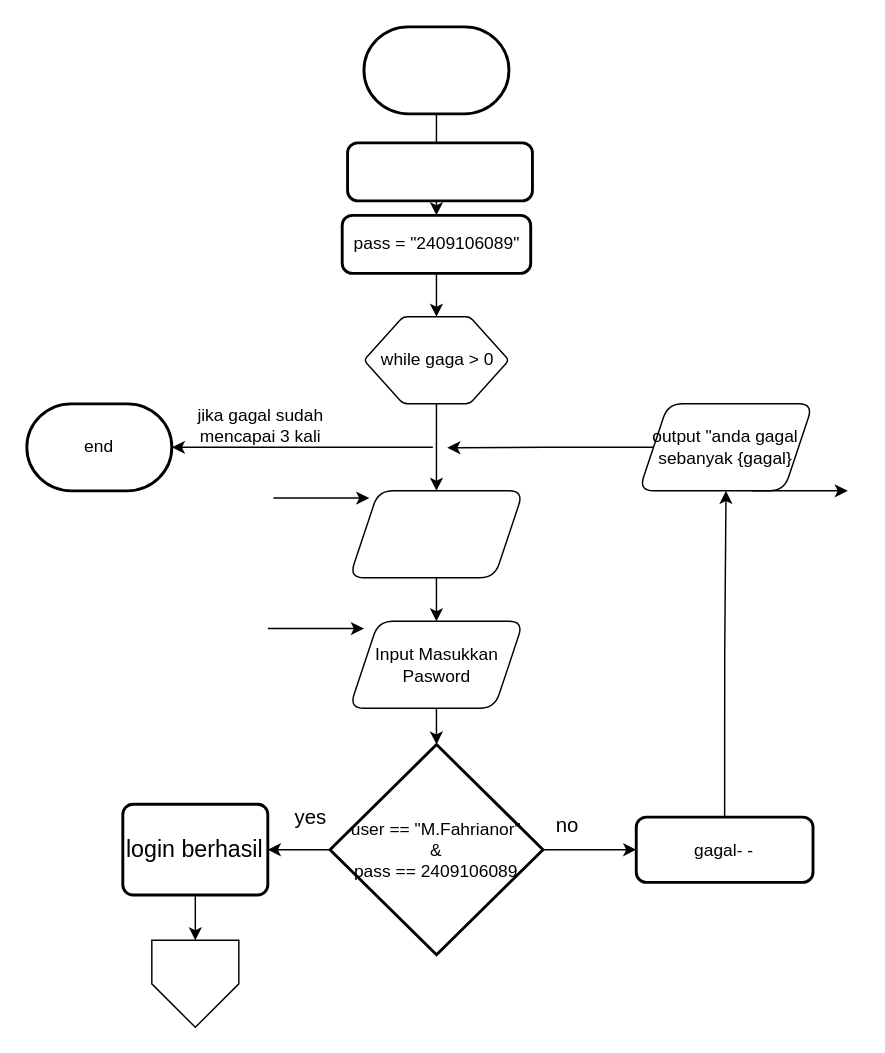
Image size: 885x1053. Some labels were removed from this diagram. The shapes that lost their labels are listed below. From the top down, each one's box as (x1, y1, x2, y2) in pixels, then its label:
(362, 25, 510, 115): start
(345, 141, 533, 202): user = "M.Fahrianor"
(348, 489, 523, 578): Input Masukkan Username
(150, 939, 239, 1027): B1
